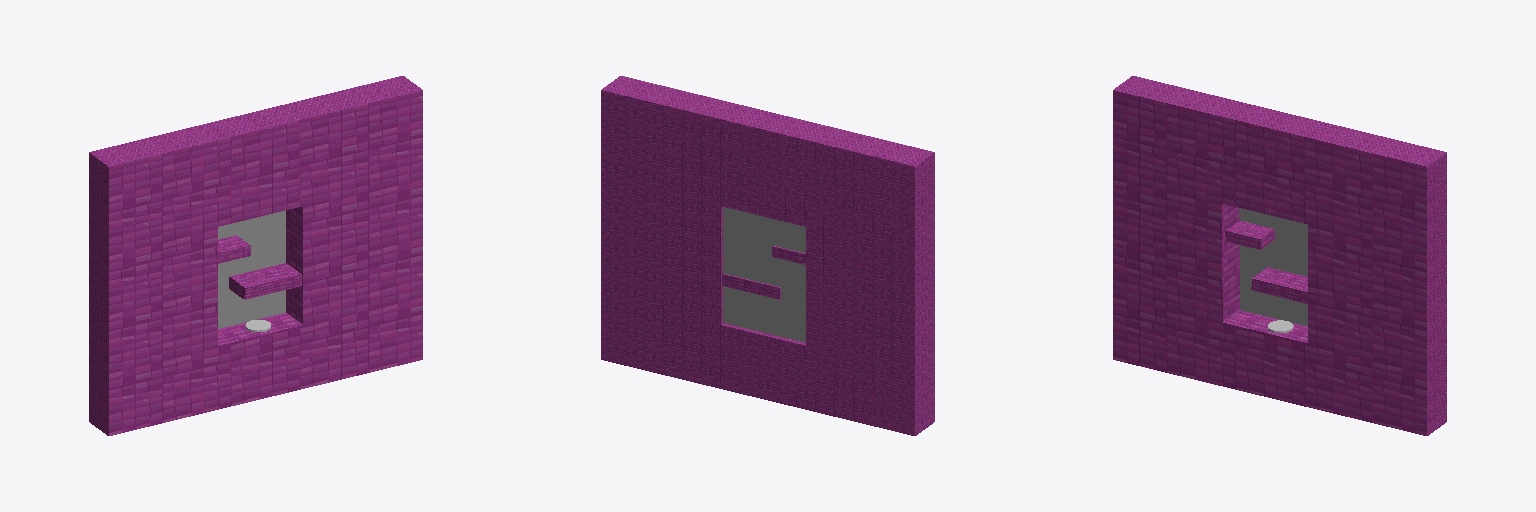
The picture shows the model from 3 angles: view 1: azimuth 30°, elevation 25°; view 2: azimuth 150°, elevation 25°; view 3: azimuth 330°, elevation 25°; orthographic projection.
Parts seen in each view (by area): view 1: Cube, Plane, Cube.002_Cube.003, Cube.001; view 2: Cube, Plane, Cube.002_Cube.003; view 3: Cube, Plane, Cube.002_Cube.003, Cube.001.
Part boxes in pixels (x1,y1,x2,y2): Cube: (89,76,422,435); Plane: (218,210,285,328); Cube.002_Cube.003: (229,263,301,299); Cube.001: (218,235,250,263); Cube: (601,76,934,435); Plane: (723,207,805,342); Cube.002_Cube.003: (722,273,780,299); Cube: (1113,76,1446,435); Plane: (1239,208,1307,325); Cube.002_Cube.003: (1251,267,1307,303); Cube.001: (1225,220,1274,249).
Size of the model in its own units: 33.12 by 27.16 by 3.61.
3 materials, 1 textured.